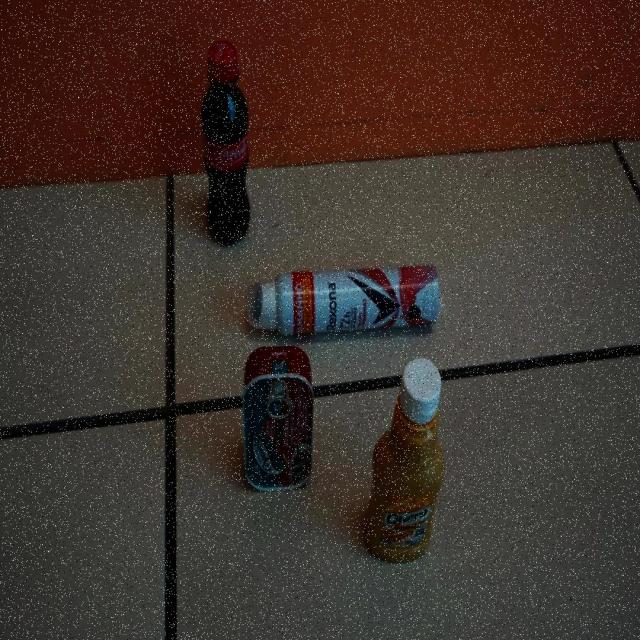Coke: (200, 42, 252, 248)
Mustard: (364, 359, 447, 568)
TunaCan: (242, 347, 314, 493)
